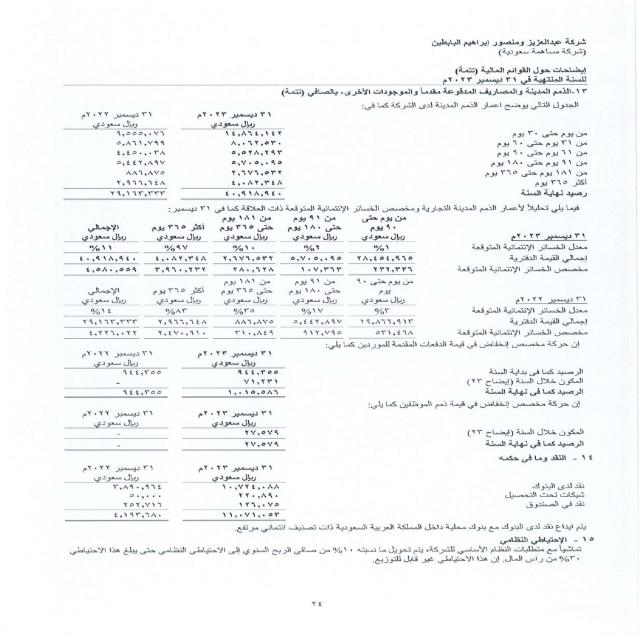notes: (444, 64, 592, 76)
table: (48, 216, 594, 341), (41, 108, 305, 206), (51, 347, 285, 455), (62, 460, 292, 527)
